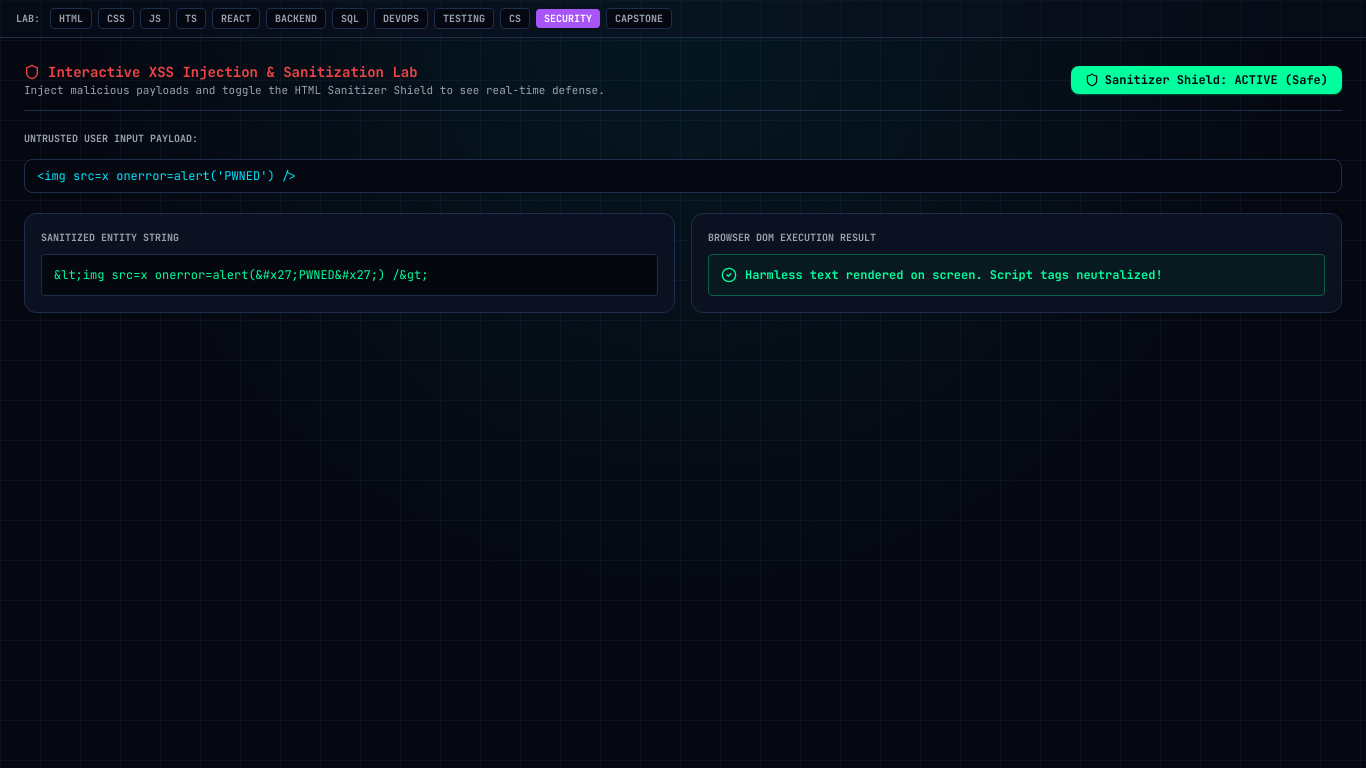
Test: RealmConceptVisualizer Component › switches to Security lab and toggles XSS sanitizer shield
The width and height of the screenshot is (1366, 768).
Expected: the heading "Interactive XSS Injection & Sanitization Lab" is shown, [24, 63, 418, 81]
Expected: the text "Sanitizer Shield: ACTIVE (Safe)" is shown, [1105, 72, 1328, 88]
Toggle shield off
Step 1. Click the button "Sanitizer Shield: ACTIVE (Safe)" → (1206, 80), box [1071, 66, 1342, 94]
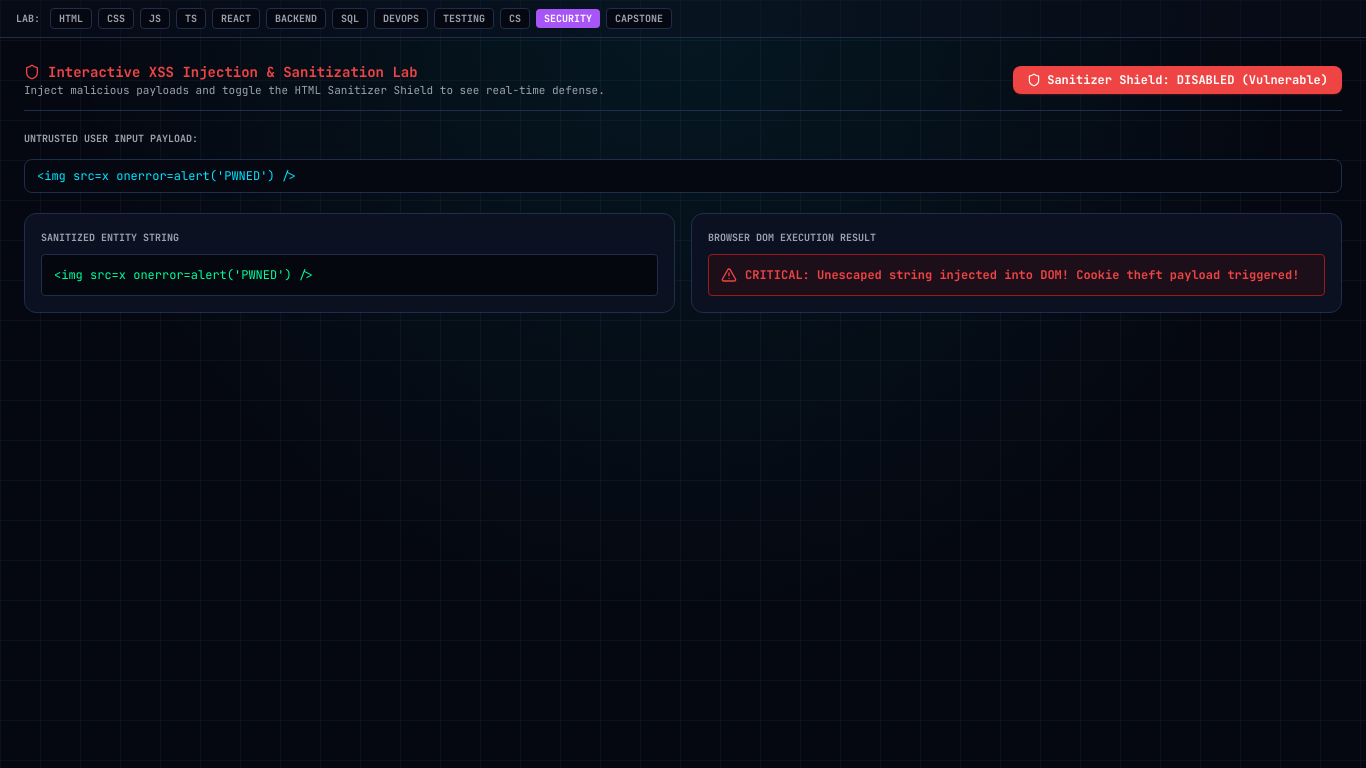
Now the text "Sanitizer Shield: DISABLED (Vulnerable)" is shown, box [1047, 72, 1328, 88]
Now the text "CRITICAL: Unescaped string injected into DOM" is shown, box [745, 267, 1299, 283]
Toggle shield back on
Step 2. Click the button "Sanitizer Shield: DISABLED (Vulnerable)" → (1178, 80), box [1013, 66, 1342, 94]
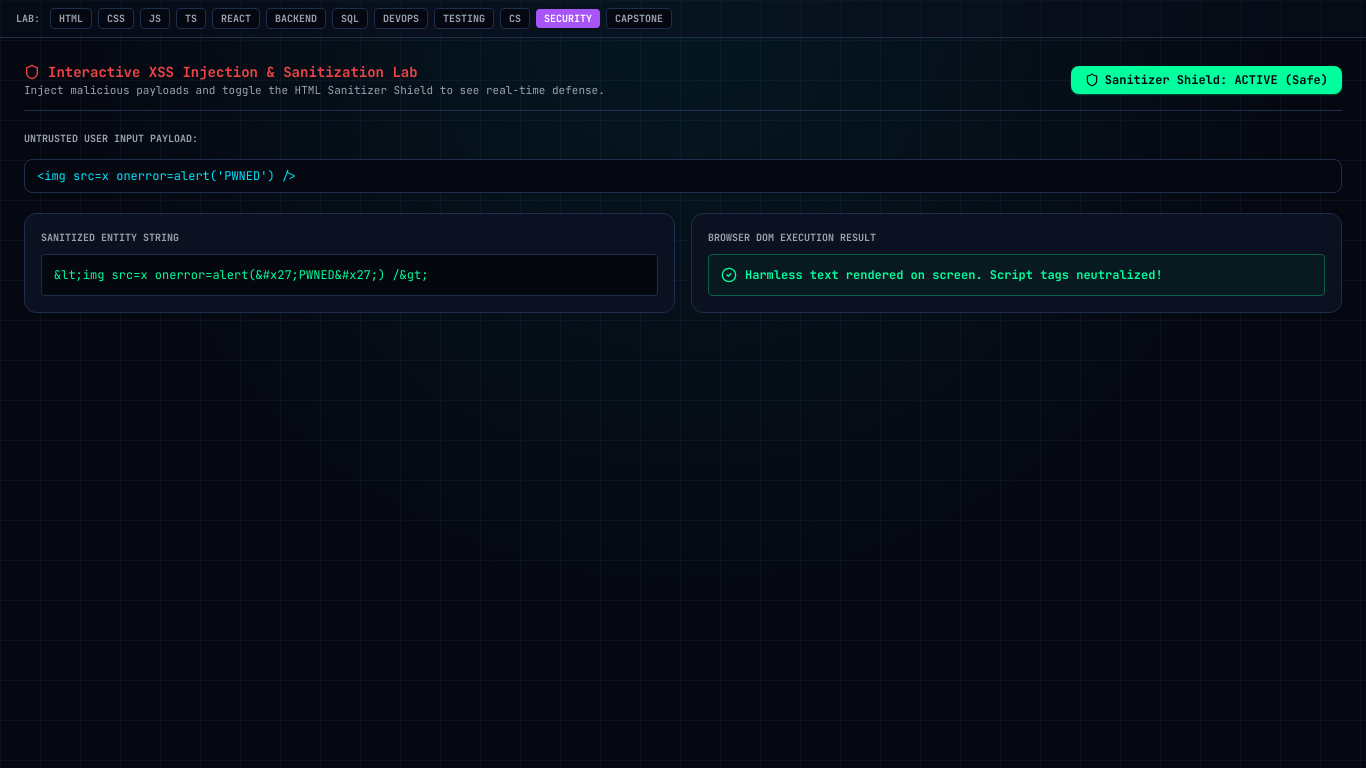
Now the text "Harmless text rendered on screen. Script tags neutralized!" is shown, box [745, 267, 1163, 283]
